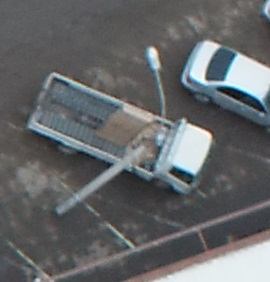opora: (55, 44, 165, 215)
